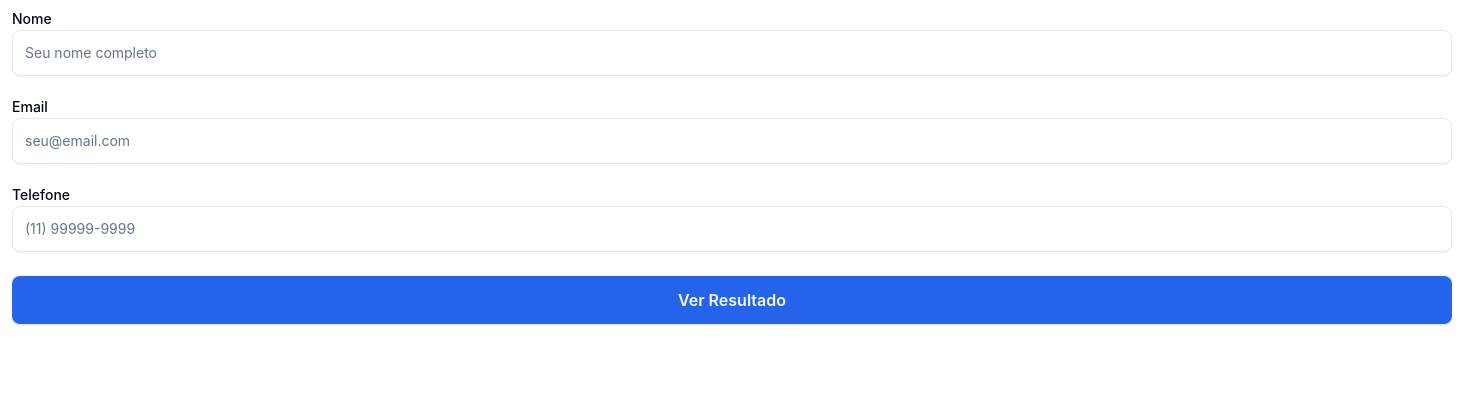
Test: LeadForm › should show validation error for invalid email
Type "invalid-email" into the field labelled "Email".
click(732, 141); type("invalid-email")  # box [12,118,1452,164]
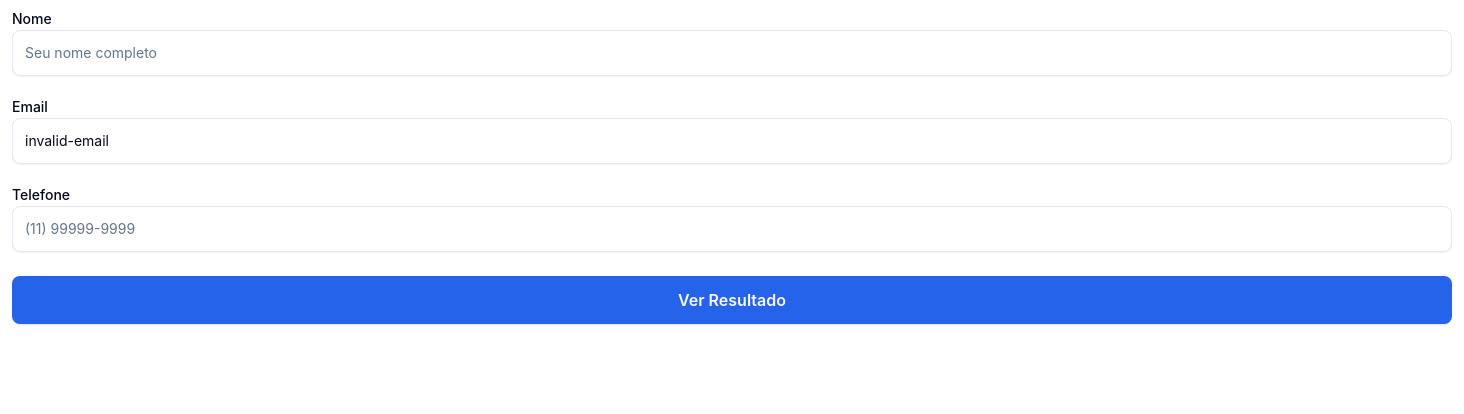
Click the button "Ver Resultado".
click(732, 300)  # box [12,276,1452,324]
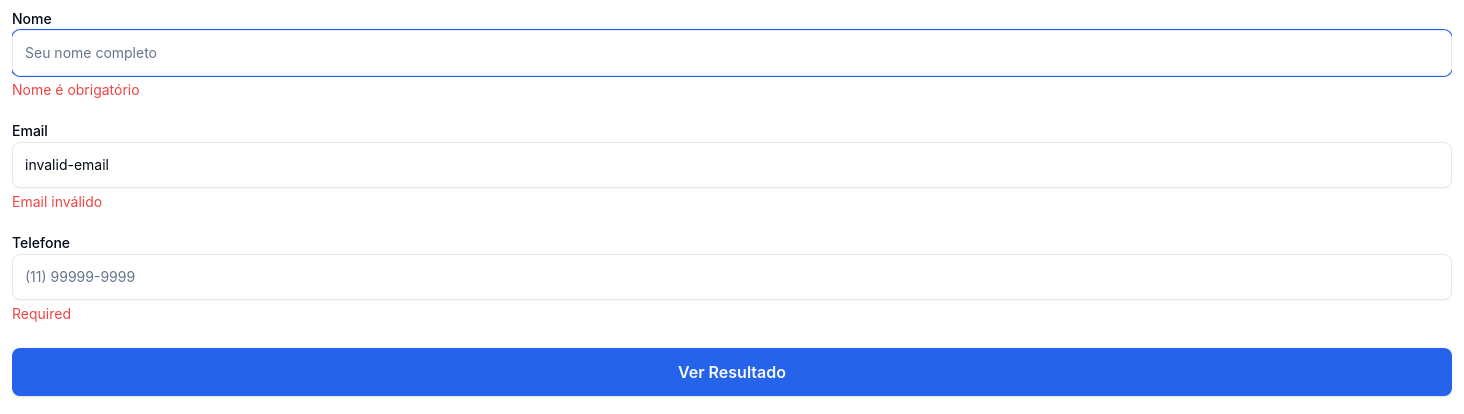
Result: the text "Email inválido" is shown at [12,193,102,210]
